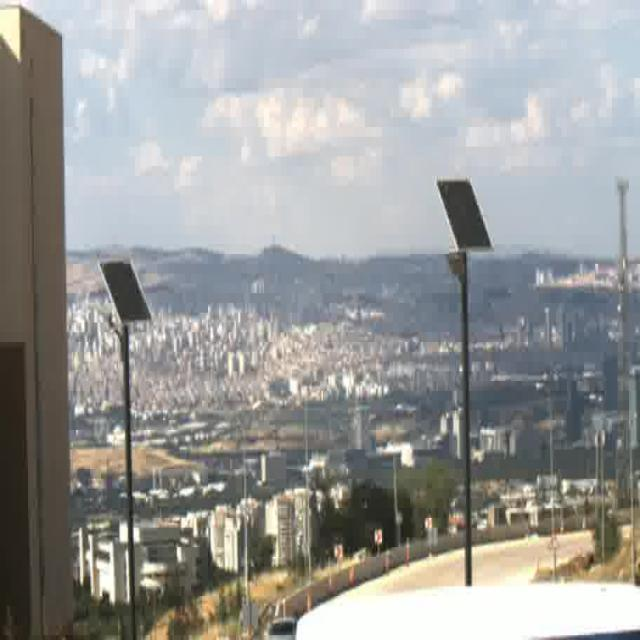Bus: (276, 581, 640, 640)
Car: (261, 614, 298, 640)
